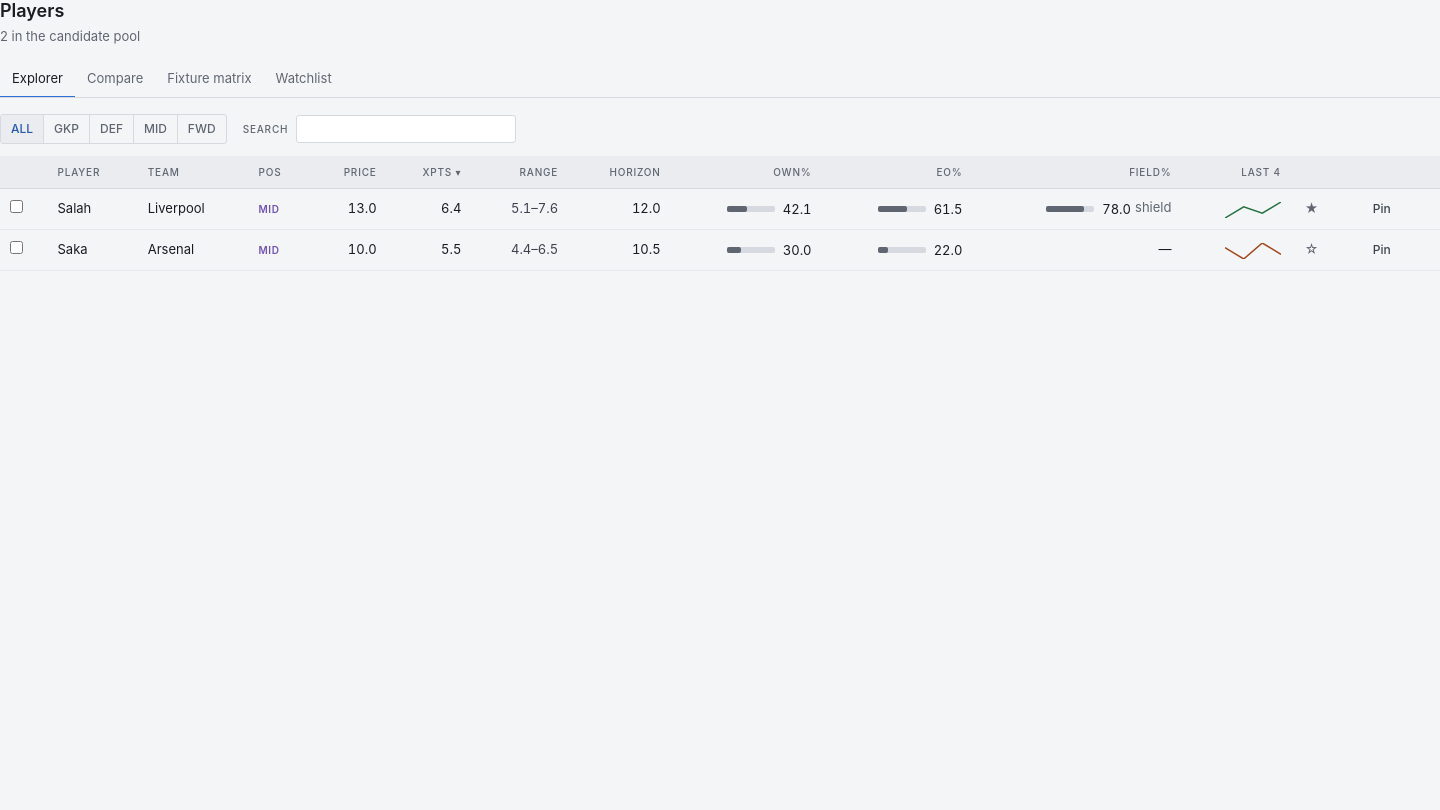
Test case: Players hub › opens the pin dialog from a row, for that row
The width and height of the screenshot is (1440, 810).
What coordinates should you click on to do the following:
click the button with aria-label "pin Saka"
I would click on:
 (1382, 250)
Its box is [1361, 236, 1403, 264].
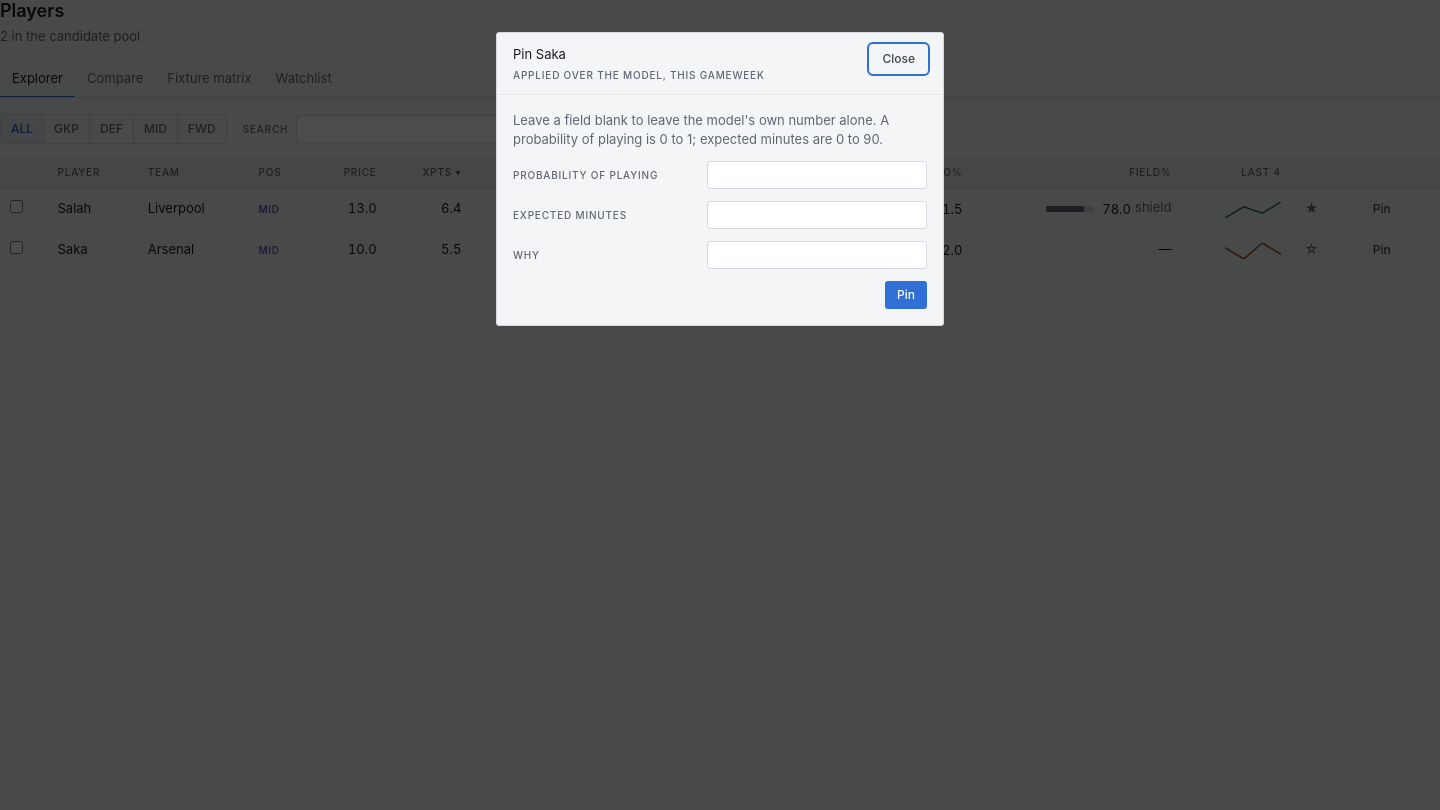
Result: the field labelled "Probability of playing" is shown at [707, 161, 927, 189]
